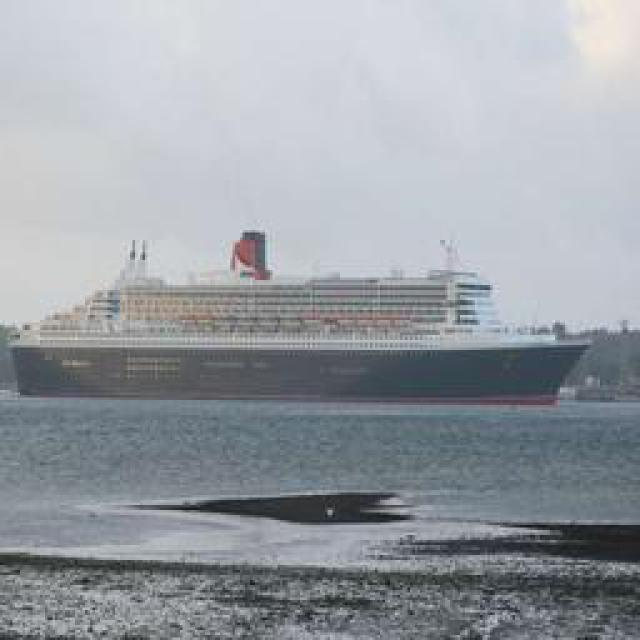Ship: (13, 226, 601, 404)
